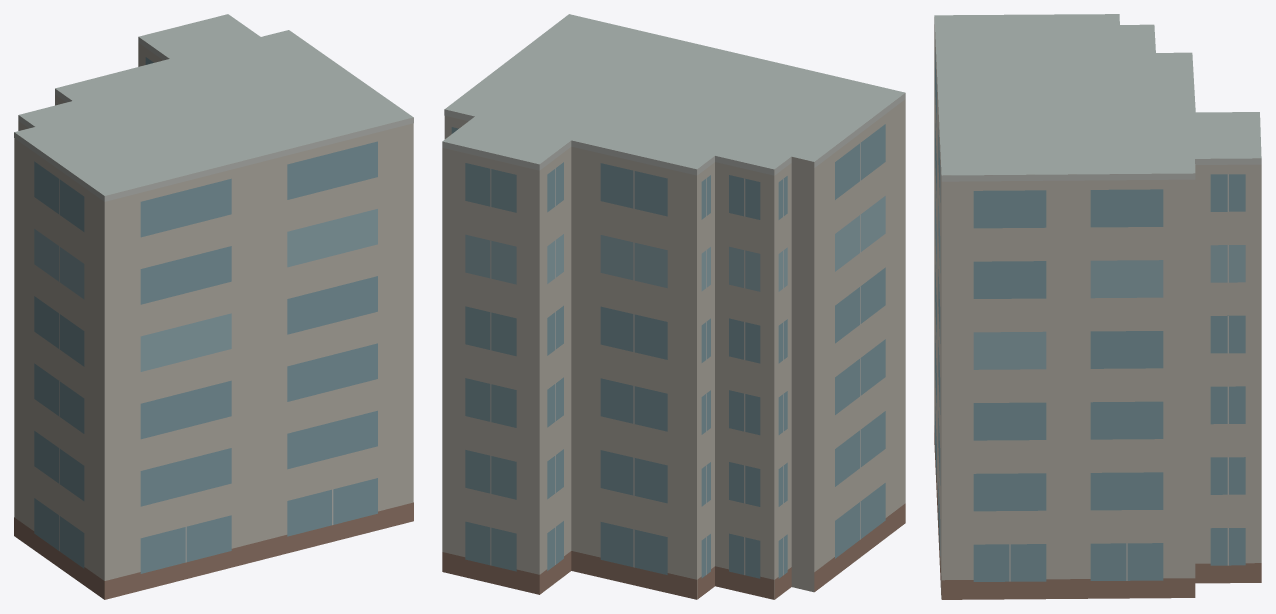
File: survey-upis-32708822.glb
3 views of the same model, side by side, from view 1: azimuth 30°, elevation 25°; view 2: azimuth 150°, elevation 25°; view 3: azimuth 270°, elevation 25° (orthographic). The views are drawn at different scales.
Parts seen in each view (by area): view 1: survey-upis-32708822.tmp; view 2: survey-upis-32708822.tmp; view 3: survey-upis-32708822.tmp.
Part boxes in pixels (bbox=[...]): survey-upis-32708822.tmp: bbox=[14, 14, 413, 599]; survey-upis-32708822.tmp: bbox=[442, 14, 905, 599]; survey-upis-32708822.tmp: bbox=[934, 14, 1261, 599].
Size of the model in its own units: 13.72 by 16.8 by 11.75.
